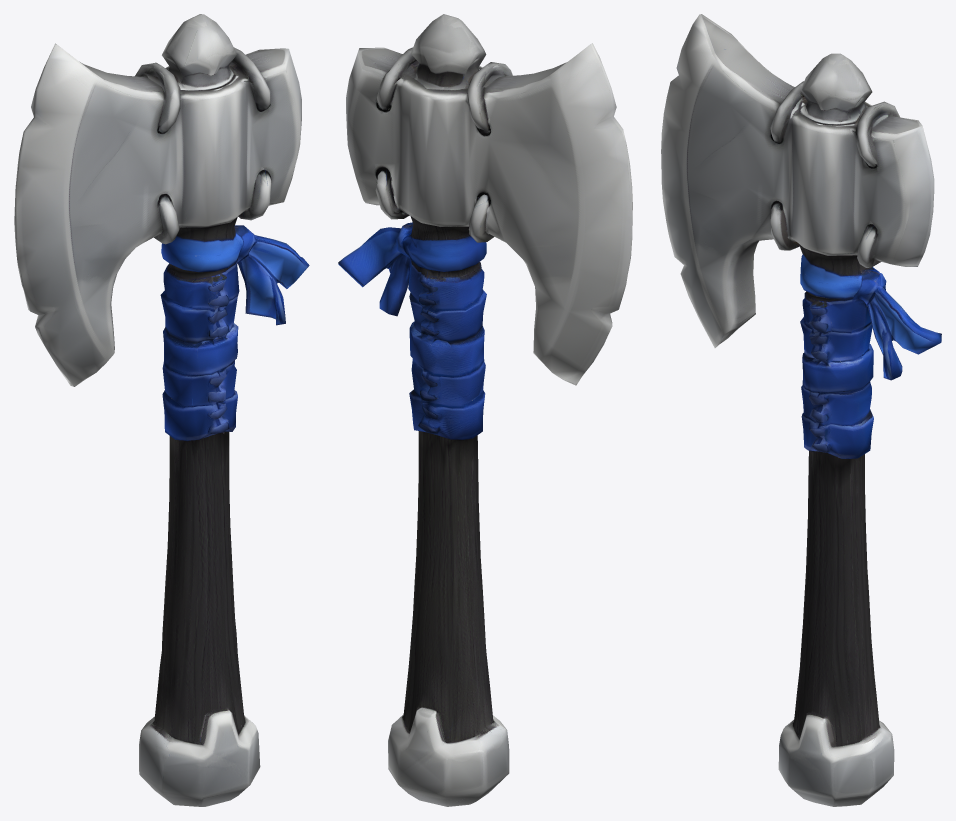
The model's file is HumanAxe.fbx.
3 renders of one model, left to right at view 1: azimuth 30°, elevation 25°; view 2: azimuth 150°, elevation 25°; view 3: azimuth 330°, elevation 25°, orthographic. The views are drawn at different scales.
Visible parts, largest first — view 1: Mesh_0; view 2: Mesh_0; view 3: Mesh_0.
Boxes of the visible parts, left/top/right/bottom form: Mesh_0: left=14, top=14, right=309, bottom=806; Mesh_0: left=338, top=14, right=632, bottom=806; Mesh_0: left=661, top=14, right=941, bottom=806.
Bounding box in the file's own units: 74.79 × 191 × 24.53.
Materials: 1 (1 with a texture image).
